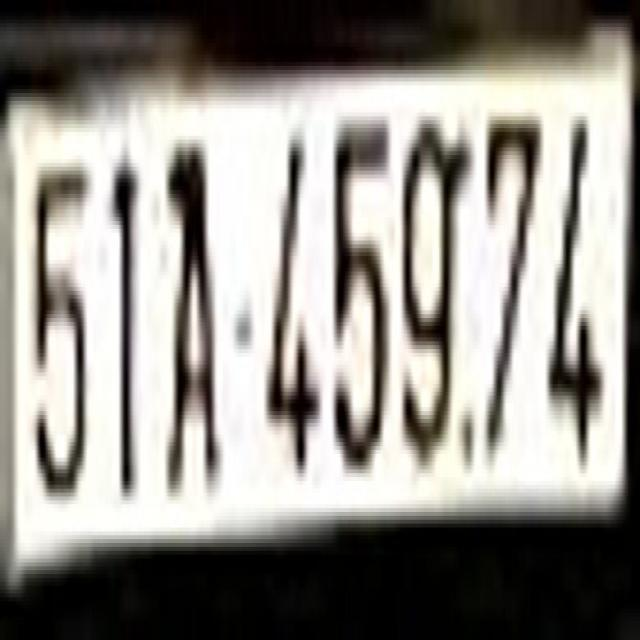4: (544, 66, 606, 493), (262, 109, 322, 528)
5: (330, 100, 394, 497), (31, 124, 92, 528)
7: (480, 74, 543, 485)
9: (398, 105, 461, 492)
A: (158, 104, 222, 508)
